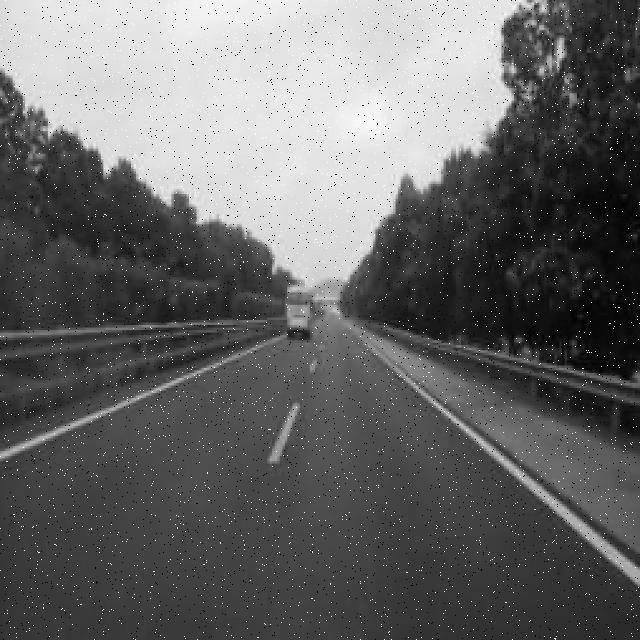clear-road: (0, 317, 640, 640)
